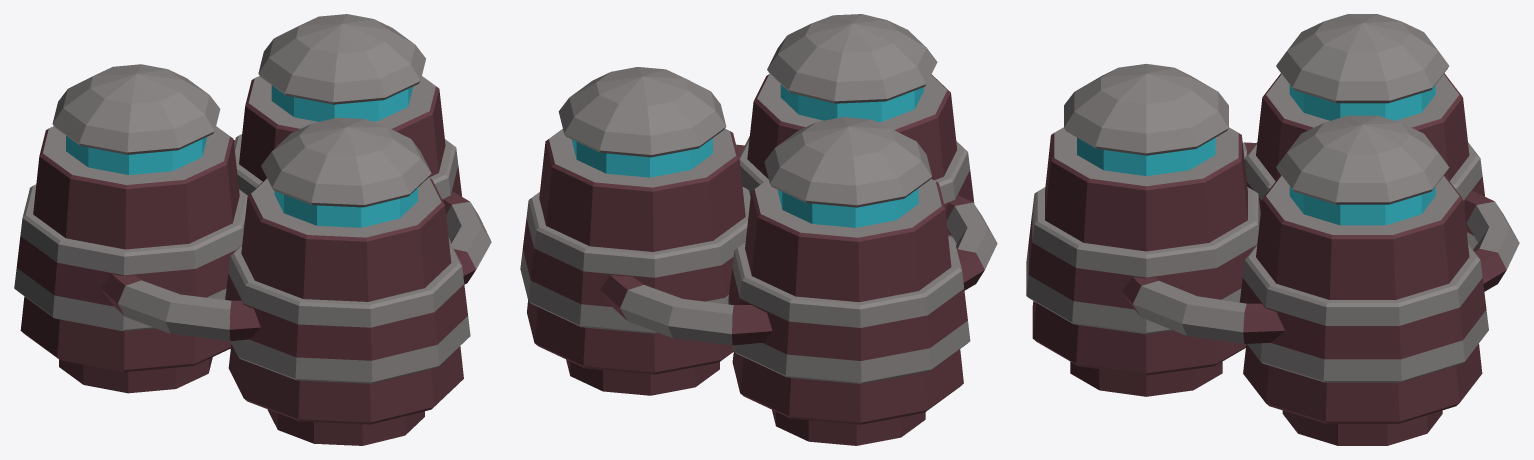
Rendered from scifi-generator-triple-small.fbx.
The picture shows the model from 3 angles, left to right: view 1: azimuth 30°, elevation 25°; view 2: azimuth 150°, elevation 25°; view 3: azimuth 270°, elevation 25°; orthographic projection.
Visible parts, largest first — view 1: scifi-generator-triple-small; view 2: scifi-generator-triple-small; view 3: scifi-generator-triple-small.
Part boxes in pixels (left/top/right/bottom): scifi-generator-triple-small: left=14, top=14, right=491, bottom=445; scifi-generator-triple-small: left=520, top=14, right=997, bottom=445; scifi-generator-triple-small: left=1026, top=14, right=1519, bottom=445.
Size of the model in its own units: 4 by 2.66 by 4.11.
